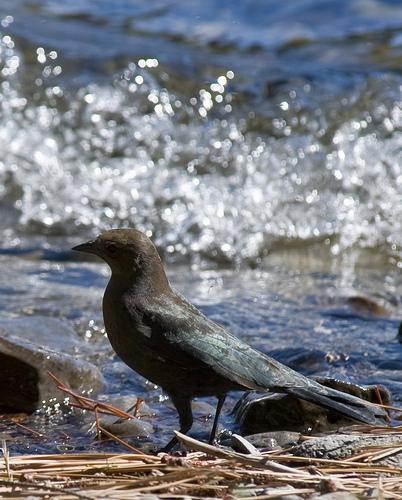009.Brewer_Blackbird: (67, 227, 388, 458)
